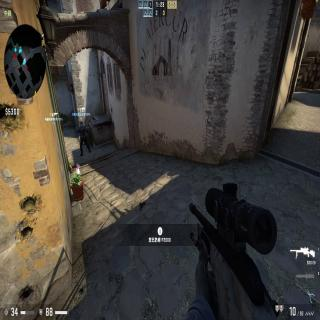CT-Body: (76, 121, 92, 158)
CT-Head: (80, 121, 83, 127)
